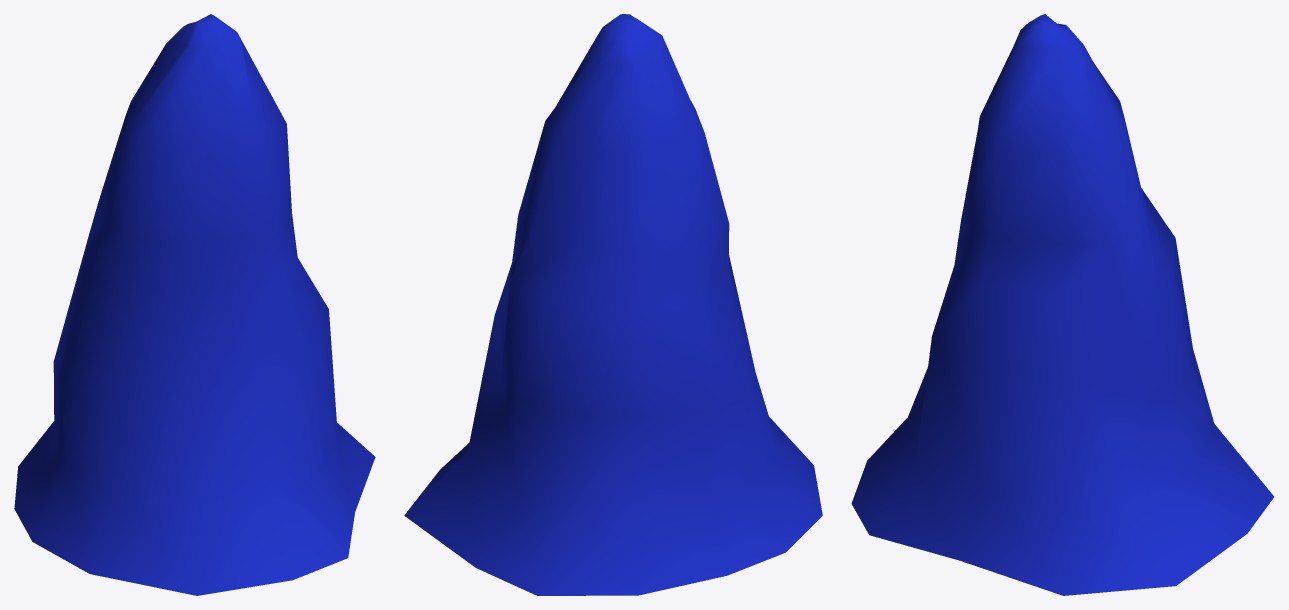
File: Stalagmites_Small_2.obj
3 views of the same model, side by side, from view 1: azimuth 30°, elevation 25°; view 2: azimuth 150°, elevation 25°; view 3: azimuth 270°, elevation 25° (orthographic).
Visible parts, largest first — view 1: Stalagmite_Small_2; view 2: Stalagmite_Small_2; view 3: Stalagmite_Small_2.
Boxes of the visible parts, x1,y1,x2,y2 form: Stalagmite_Small_2: (14,14,375,595); Stalagmite_Small_2: (404,14,822,595); Stalagmite_Small_2: (851,14,1274,595).
Bounding box in the file's own units: 0.7741 × 1.05 × 0.8209.
